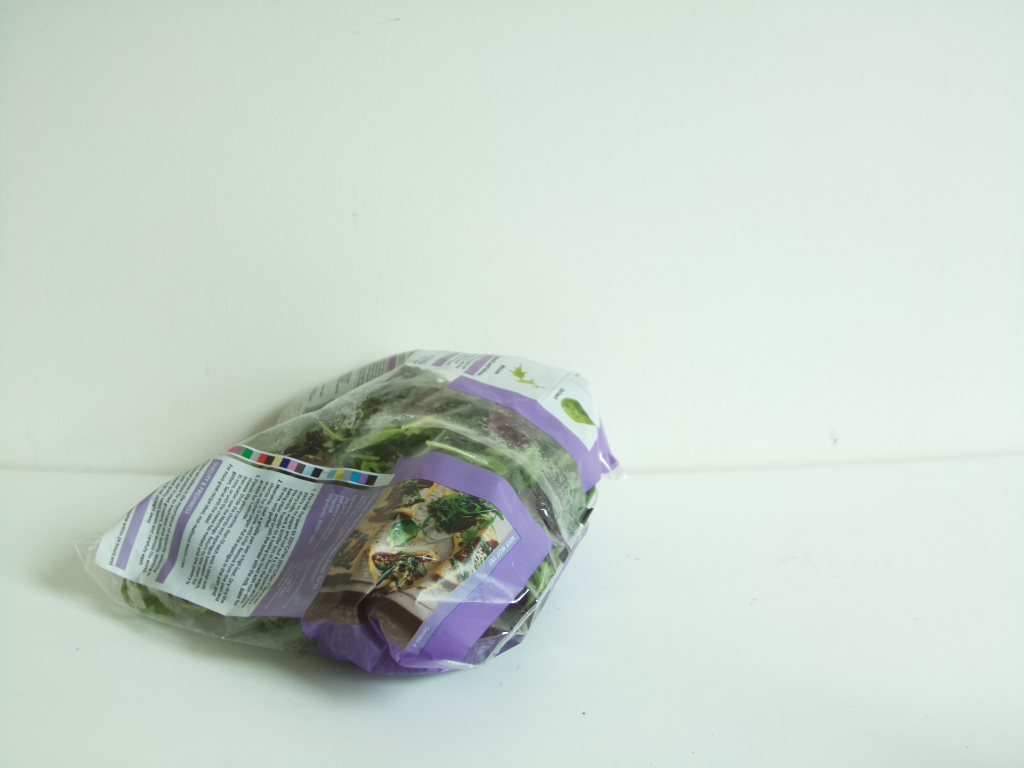salad: (108, 354, 615, 684)
